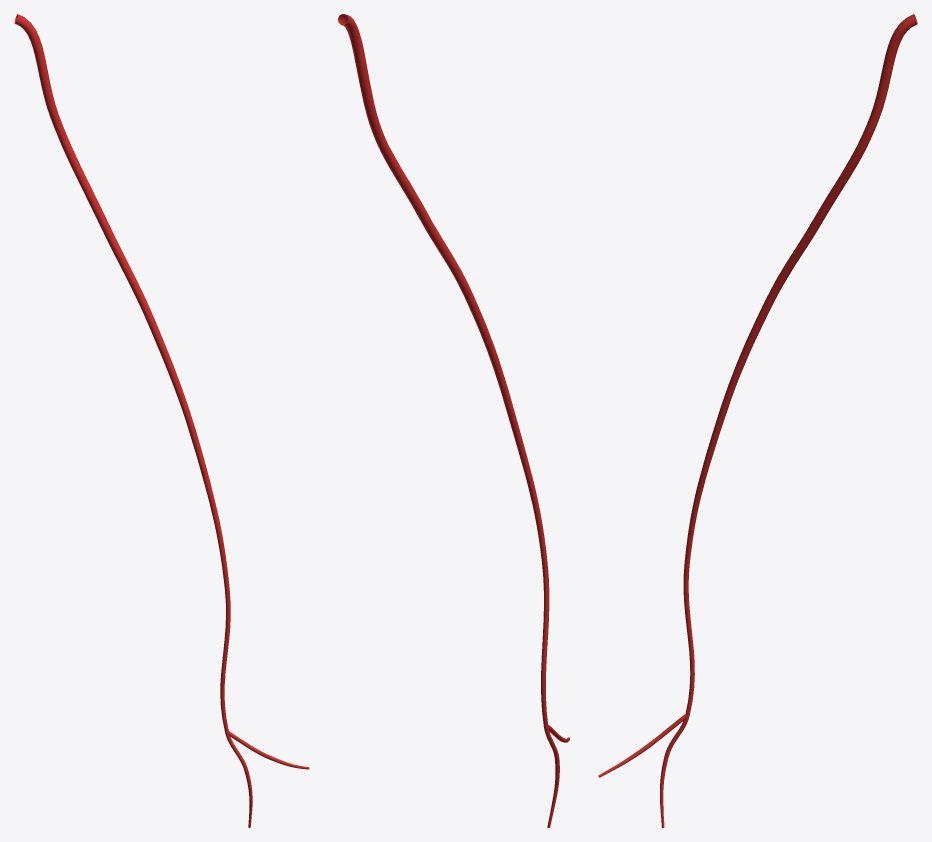
File: circulatorio-lateral-thoracic-artery-r.glb
3 views of the same model, side by side, from view 1: azimuth 90°, elevation 25°; view 2: azimuth 150°, elevation 25°; view 3: azimuth 270°, elevation 25° (orthographic). The views are drawn at different scales.
Visible parts, largest first — view 1: Lateral thoracic artery.r; view 2: Lateral thoracic artery.r; view 3: Lateral thoracic artery.r.
Boxes of the visible parts, box(x1,y1,x2,y2) form: Lateral thoracic artery.r: box(14, 14, 309, 827); Lateral thoracic artery.r: box(338, 14, 569, 827); Lateral thoracic artery.r: box(598, 14, 917, 827).
Bounding box in the file's own units: 0.0224 × 0.2112 × 0.0722.
